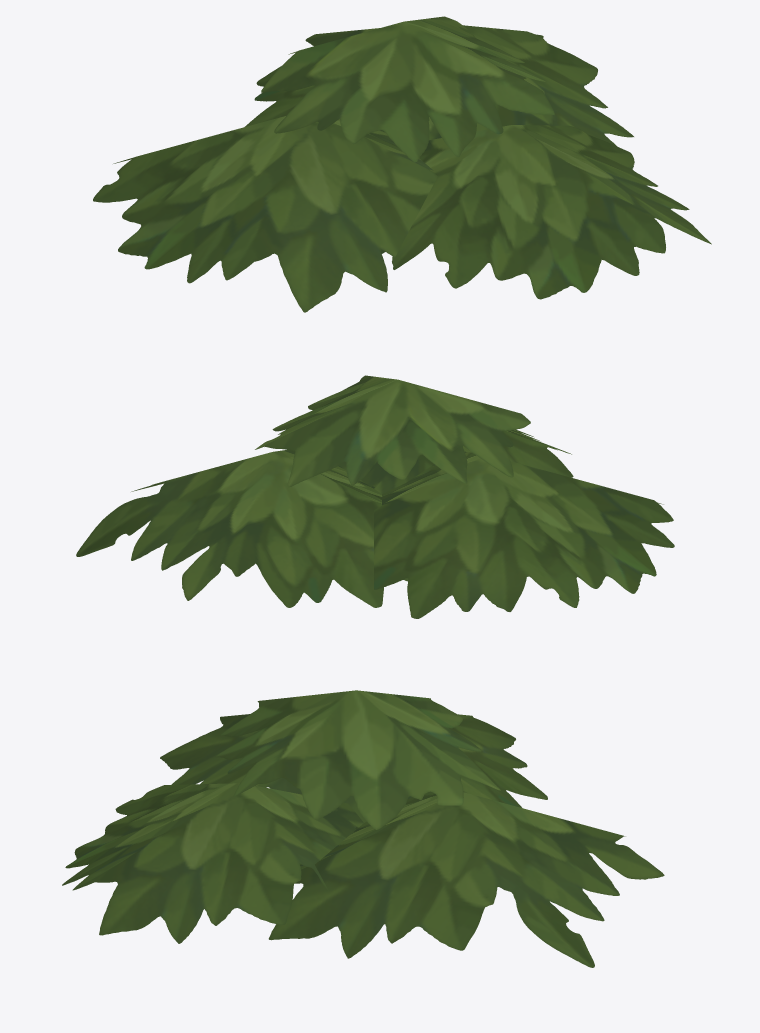
Rendered from Na_Bush_01.FBX.
3 renders of one model, top to bottom at view 1: azimuth 30°, elevation 25°; view 2: azimuth 150°, elevation 25°; view 3: azimuth 270°, elevation 25°, orthographic. The views are drawn at different scales.
Parts seen in each view (by area): view 1: Na_Bush_01; view 2: Na_Bush_01; view 3: Na_Bush_01.
Part boxes in pixels (bbox=[...]): Na_Bush_01: bbox=[93, 16, 711, 312]; Na_Bush_01: bbox=[76, 375, 674, 618]; Na_Bush_01: bbox=[62, 690, 664, 967].
Bounding box in the file's own units: 1.81 × 0.4817 × 1.9.
